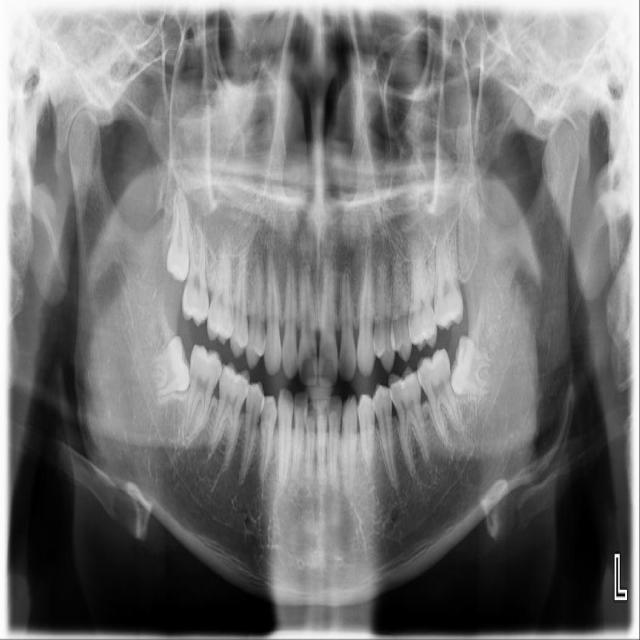3M ESPE Implant: (165, 187, 197, 283)
73: (606, 558, 614, 574)
BioHorizons Implant: (434, 220, 464, 331)
Biomet 3i Implant: (448, 334, 495, 397)
Blue Sky Bio Implant: (413, 346, 465, 452)
Caries: (179, 212, 210, 328)
Implant: (183, 344, 224, 439)
Keystone Dental Implant: (146, 334, 195, 399)
